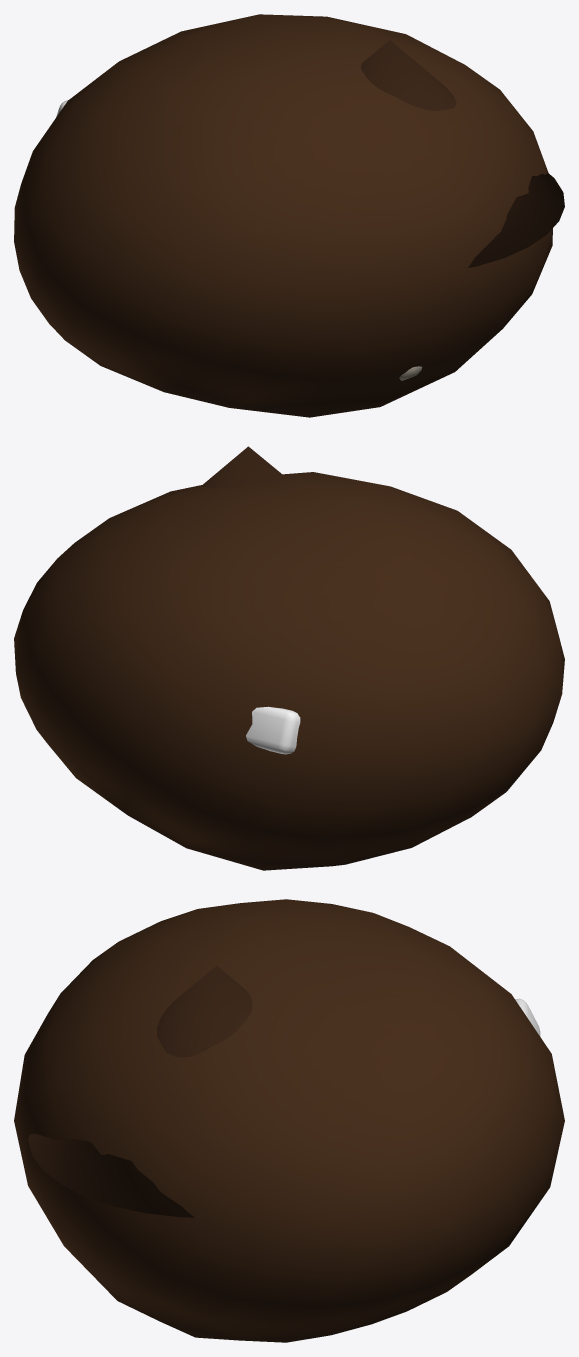
Rendered from termite-nest.obj.
The picture shows the model from 3 angles, top to bottom: view 1: azimuth 30°, elevation 25°; view 2: azimuth 150°, elevation 25°; view 3: azimuth 270°, elevation 25°; orthographic projection. The views are drawn at different scales.
Parts seen in each view (by area): view 1: termite-nest; view 2: termite-nest; view 3: termite-nest.
Part boxes in pixels (<box>): termite-nest: <box>14,14,564,417</box>; termite-nest: <box>14,446,564,870</box>; termite-nest: <box>14,899,564,1342</box>.
Size of the model in its own units: 1.14 by 0.7899 by 1.03.
